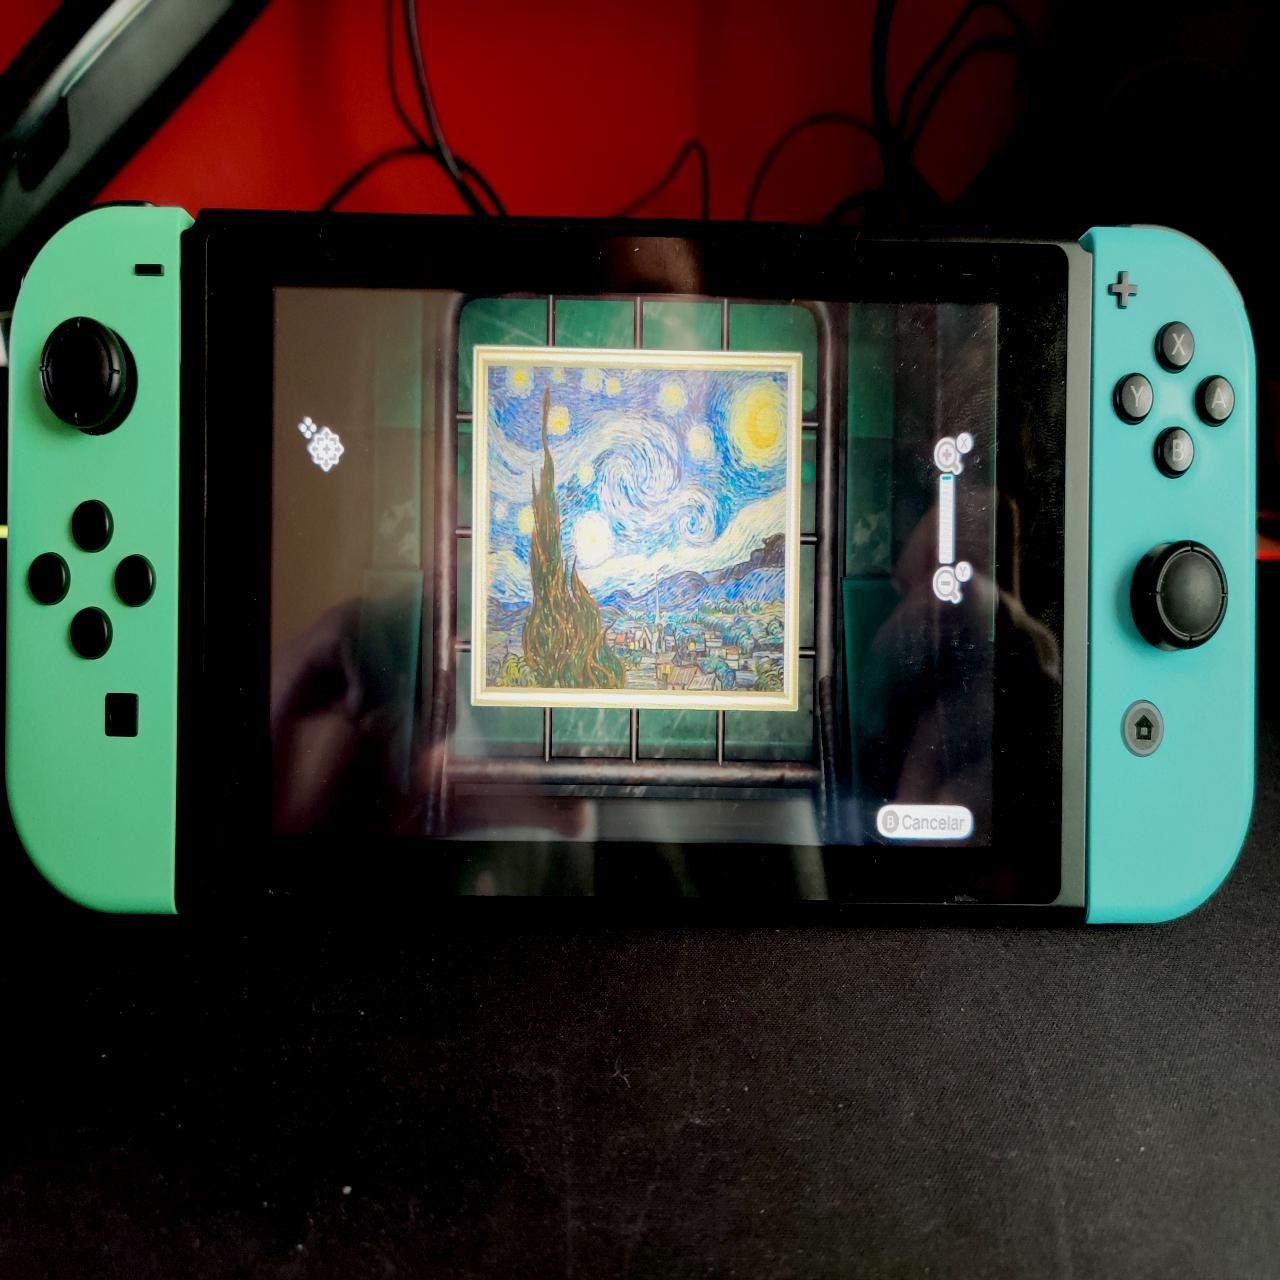StarryNight: (486, 361, 790, 697)
